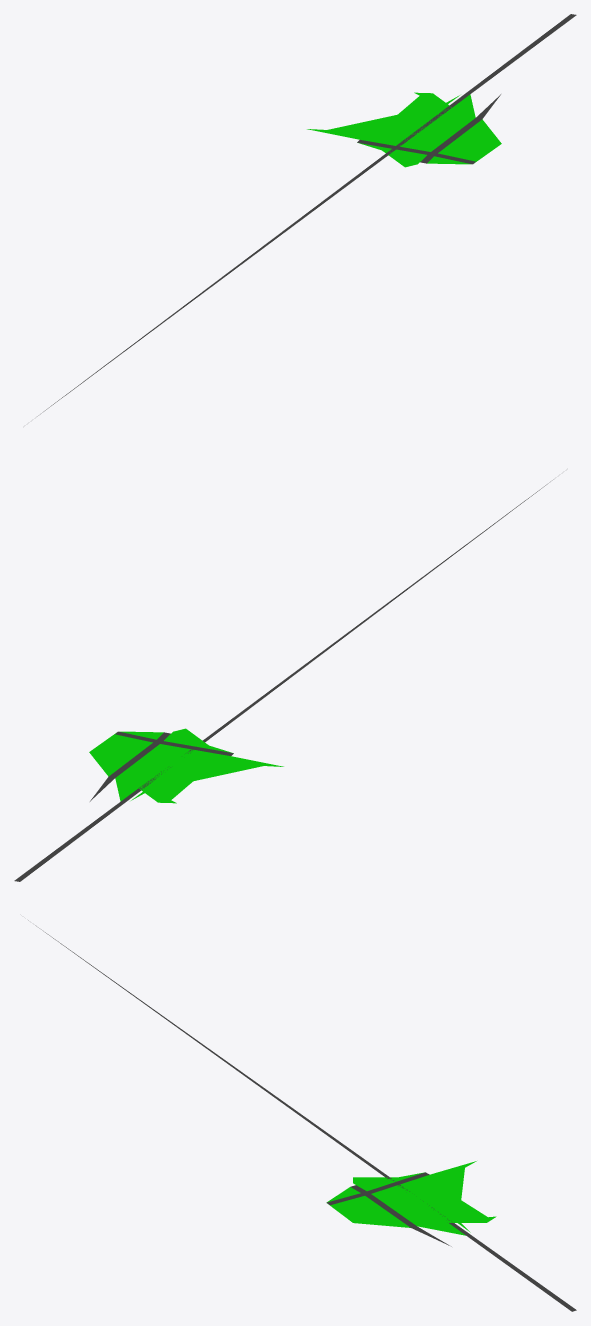
3 renders of one model, top to bottom at view 1: azimuth 30°, elevation 25°; view 2: azimuth 210°, elevation 25°; view 3: azimuth 270°, elevation 25°, orthographic. The views are drawn at different scales.
Bounding box in the file's own units: 528 × 0 × 312.
